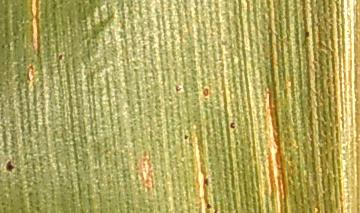tarspot: (5, 159, 14, 173), (202, 87, 210, 97), (202, 175, 209, 186), (174, 84, 182, 93), (229, 121, 236, 130), (183, 133, 189, 141), (57, 53, 63, 61), (304, 30, 310, 38), (205, 203, 212, 209), (234, 140, 240, 147)
